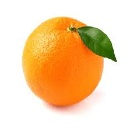orange: (20, 15, 108, 109)
